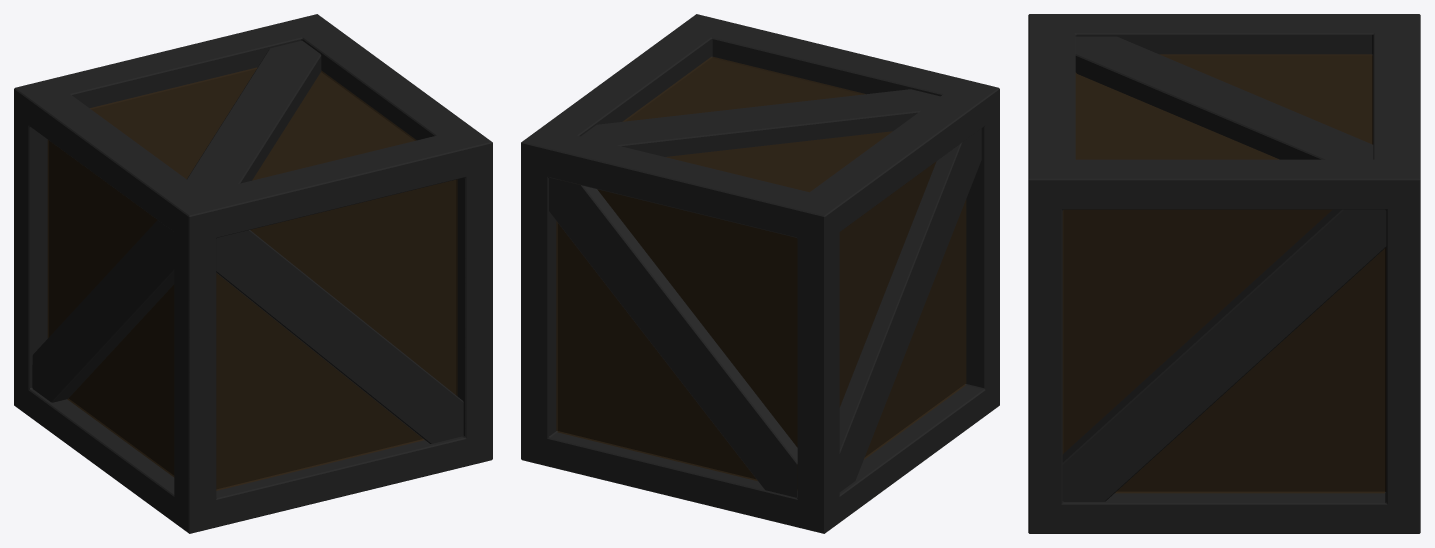
3 views of the same model, side by side, from view 1: azimuth 30°, elevation 25°; view 2: azimuth 150°, elevation 25°; view 3: azimuth 270°, elevation 25° (orthographic). The views are drawn at different scales.
Parts seen in each view (by area): view 1: Box1 Optimized; view 2: Box1 Optimized; view 3: Box1 Optimized.
Boxes of the visible parts, x1,y1,x2,y2 form: Box1 Optimized: (14,14,492,533); Box1 Optimized: (521,14,999,533); Box1 Optimized: (1028,14,1420,533).
Size of the model in its own units: 49.98 by 49.98 by 49.98.
